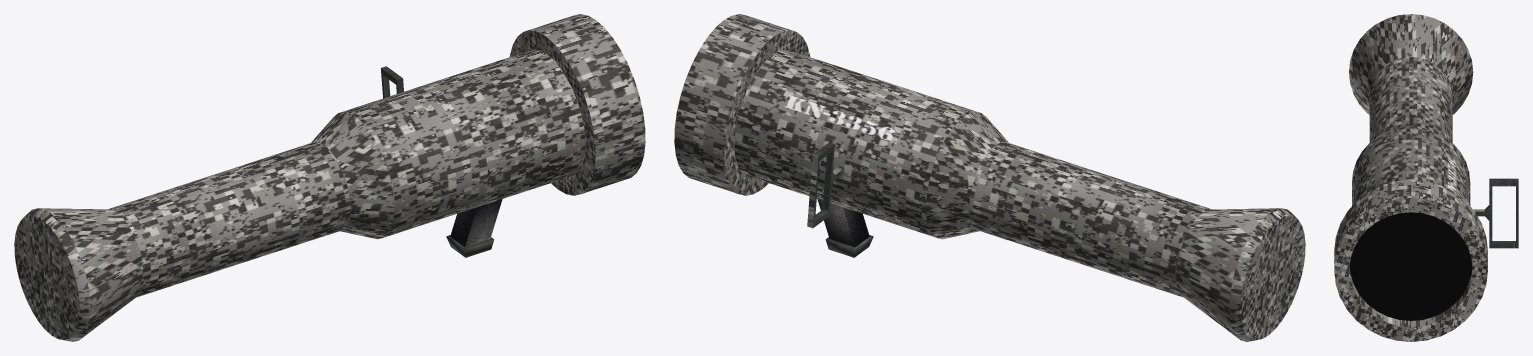
Rendered from launcher_000003.obj.
The picture shows the model from 3 angles, left to right: view 1: azimuth 30°, elevation 25°; view 2: azimuth 150°, elevation 25°; view 3: azimuth 270°, elevation 25°; orthographic projection. The views are drawn at different scales.
Visible parts, largest first — view 1: Cylinder; view 2: Cylinder; view 3: Cylinder.
Part boxes in pixels (x1=…): Cylinder: x1=14, y1=14, x2=645, y2=341; Cylinder: x1=674, y1=14, x2=1305, y2=341; Cylinder: x1=1334, y1=14, x2=1518, y2=341.
Size of the model in its own units: 8.85 by 2.97 by 2.81.
Materials: 1 (1 with a texture image).
